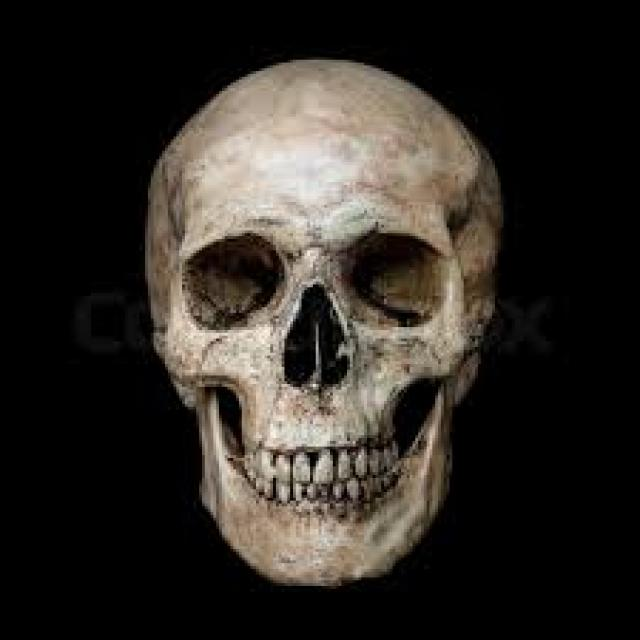skull: (136, 39, 506, 591)
